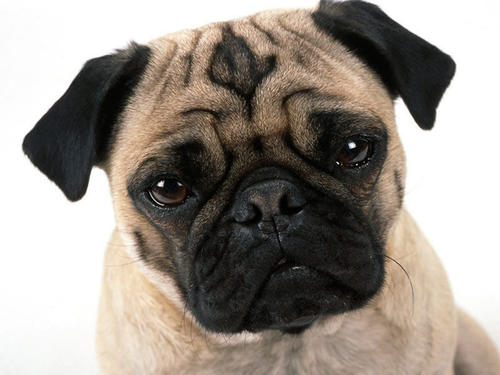dog: (28, 8, 468, 341)
